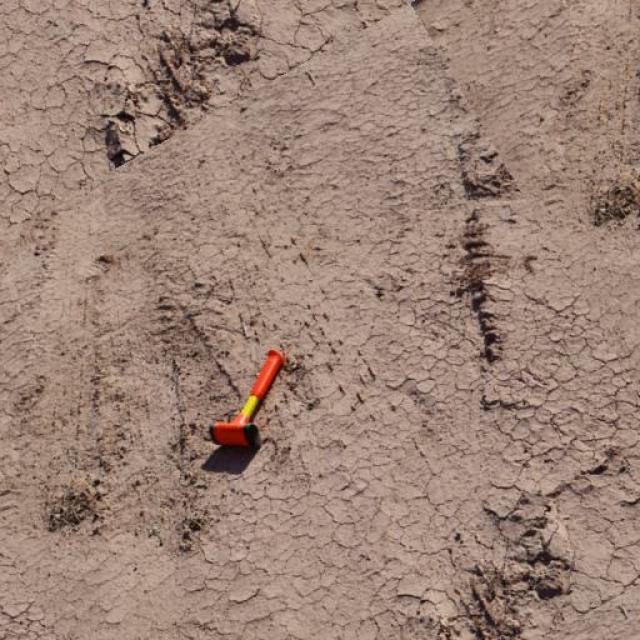mallet: (210, 348, 289, 450)
